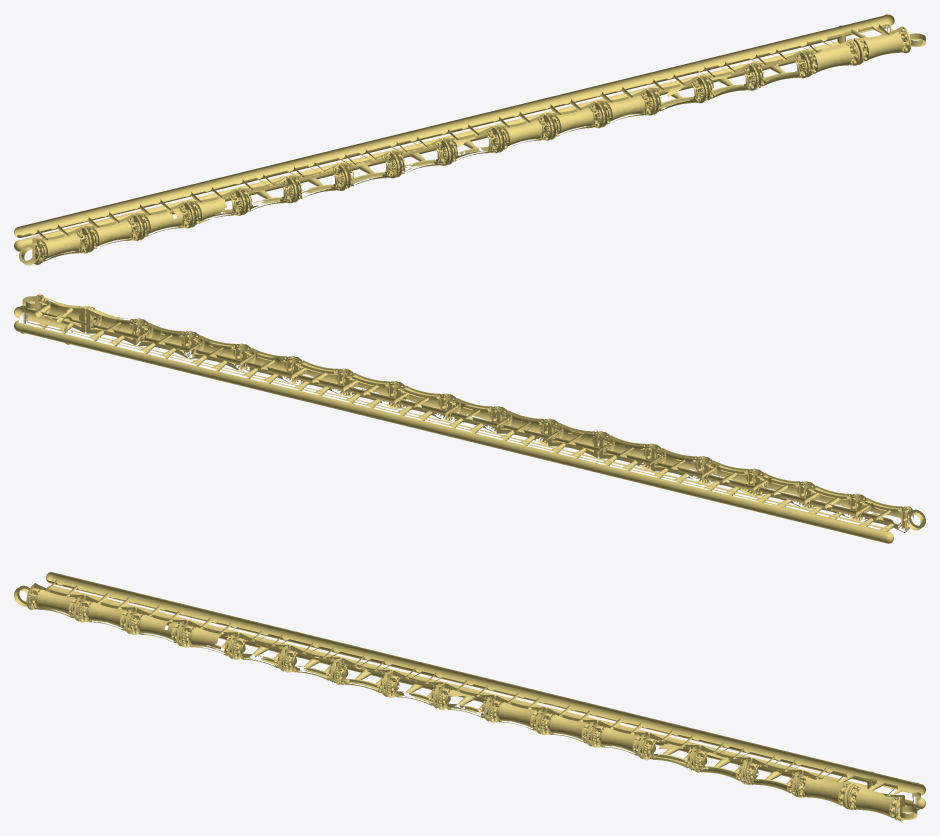
File: deneme_kemik.glb
The picture shows the model from 3 angles, top to bottom: view 1: azimuth 30°, elevation 25°; view 2: azimuth 150°, elevation 25°; view 3: azimuth 330°, elevation 25°; orthographic projection.
Parts seen in each view (by area): view 1: Renderer Node; view 2: Renderer Node; view 3: Renderer Node.
Boxes of the visible parts, x1,y1,x2,y2 form: Renderer Node: (14, 14, 925, 265); Renderer Node: (14, 294, 925, 543); Renderer Node: (14, 572, 925, 821).
Size of the model in its own units: 181 by 5.25 by 9.71.
